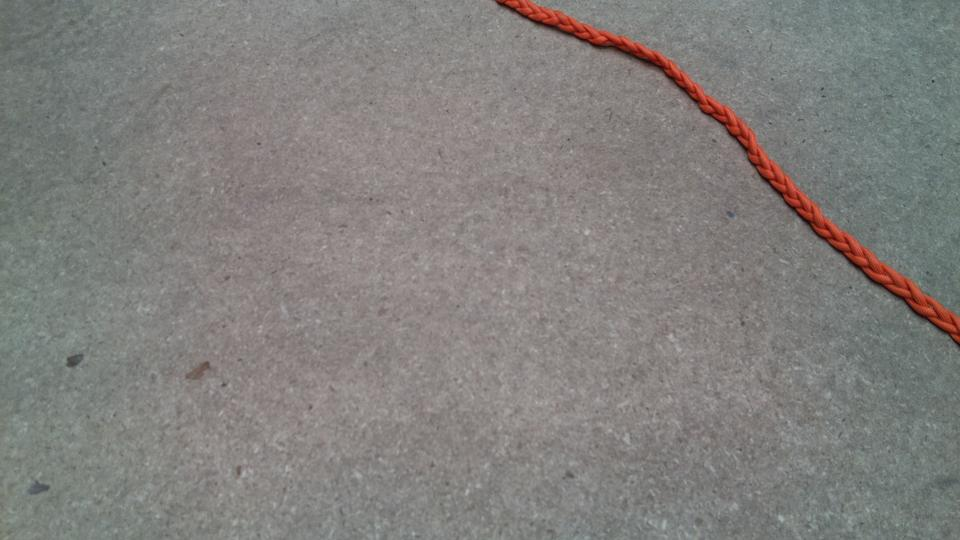rope: (512, 1, 960, 329)
